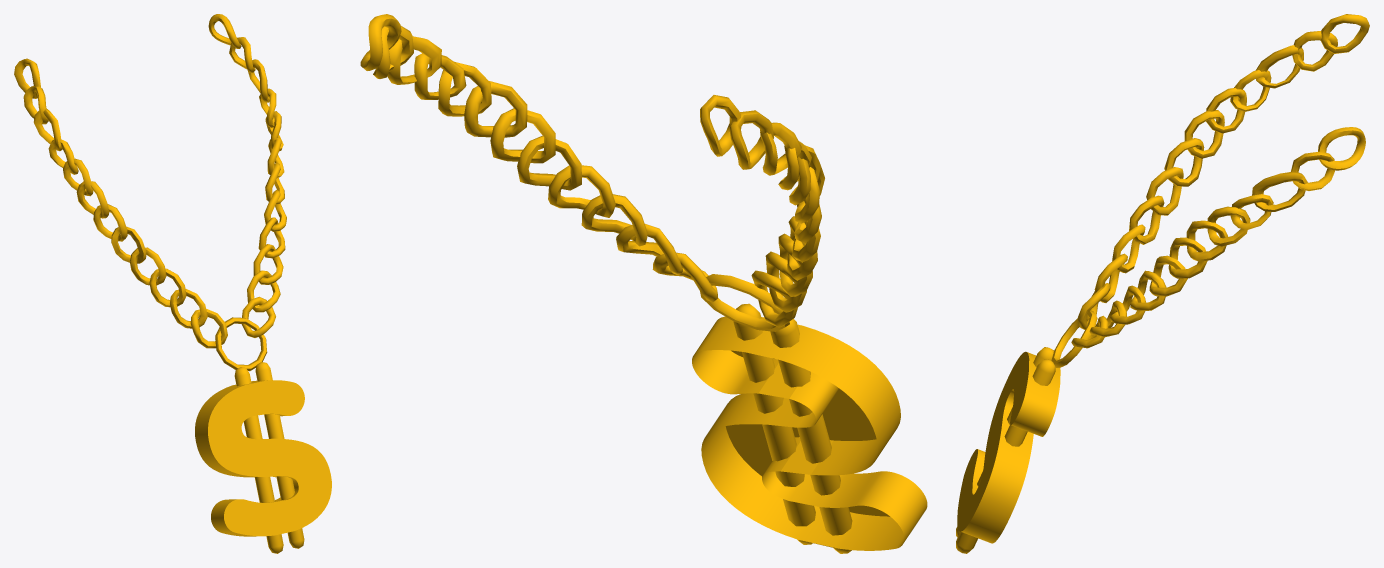
Rendered from Jewelry-Necklace$.fbx.
The picture shows the model from 3 angles, left to right: view 1: azimuth 30°, elevation 25°; view 2: azimuth 150°, elevation 25°; view 3: azimuth 270°, elevation 25°; orthographic projection. The views are drawn at different scales.
Visible parts, largest first — view 1: Character_Accessory_Jewelry_Dollar_Necklace; view 2: Character_Accessory_Jewelry_Dollar_Necklace; view 3: Character_Accessory_Jewelry_Dollar_Necklace.
Boxes of the visible parts, x1,y1,x2,y2 form: Character_Accessory_Jewelry_Dollar_Necklace: [14, 14, 331, 553]; Character_Accessory_Jewelry_Dollar_Necklace: [360, 14, 927, 553]; Character_Accessory_Jewelry_Dollar_Necklace: [956, 14, 1369, 553].
Size of the model in its own units: 14.49 by 24.48 by 19.3.
